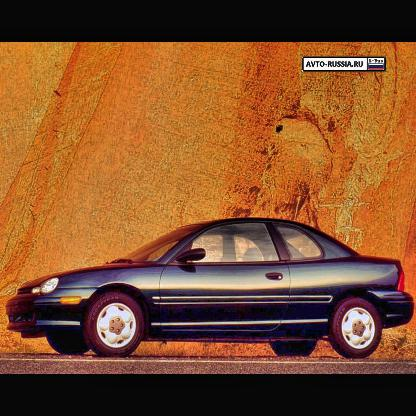Plymouth Neon Coupe 1999: (7, 218, 416, 361)
